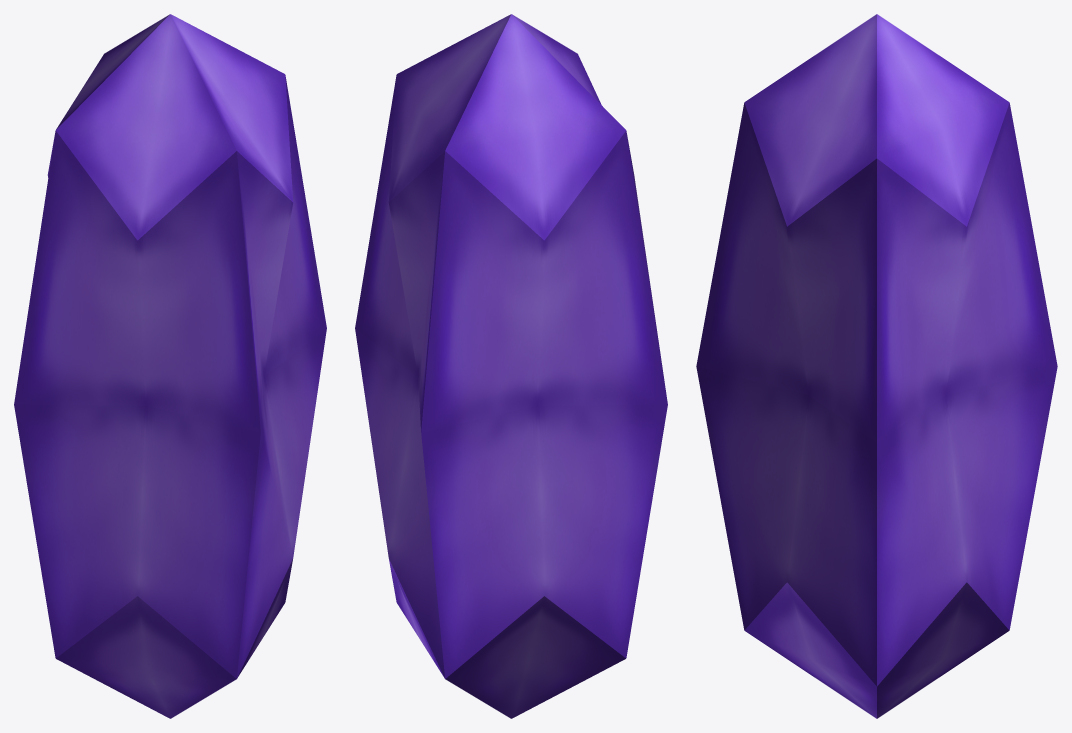
File: Rock_Core.fbx
3 views of the same model, side by side, from view 1: azimuth 30°, elevation 25°; view 2: azimuth 150°, elevation 25°; view 3: azimuth 270°, elevation 25° (orthographic).
Visible parts, largest first — view 1: pCube1; view 2: pCube1; view 3: pCube1.
Part boxes in pixels (left/top/right/bottom): pCube1: left=14, top=14, right=326, bottom=718; pCube1: left=355, top=14, right=667, bottom=718; pCube1: left=696, top=14, right=1057, bottom=718.
Size of the model in its own units: 8.28 by 17.83 by 8.28.
